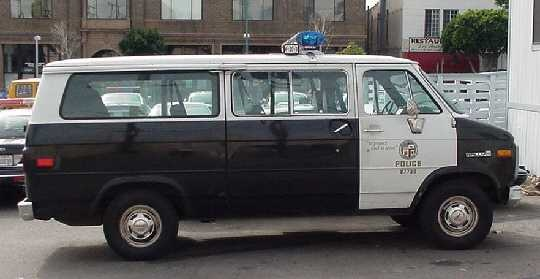Police Van: (37, 33, 524, 244)
